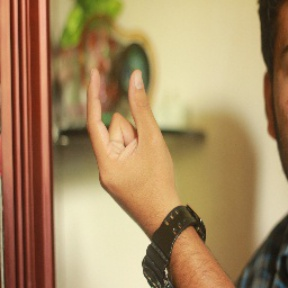U: (79, 62, 175, 198)
